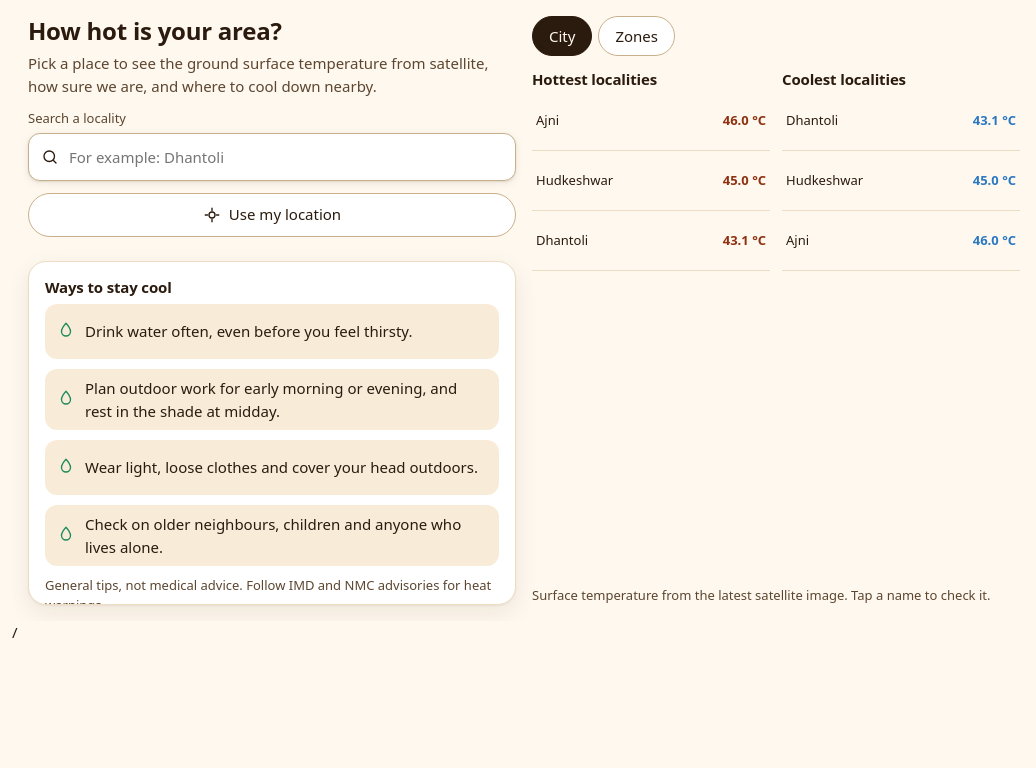
Scenario: HomePage › puts the chosen place in the URL after searching
Type "ajni" into the dropdown.
click(285, 156); type("ajni")  # box [67, 134, 503, 178]
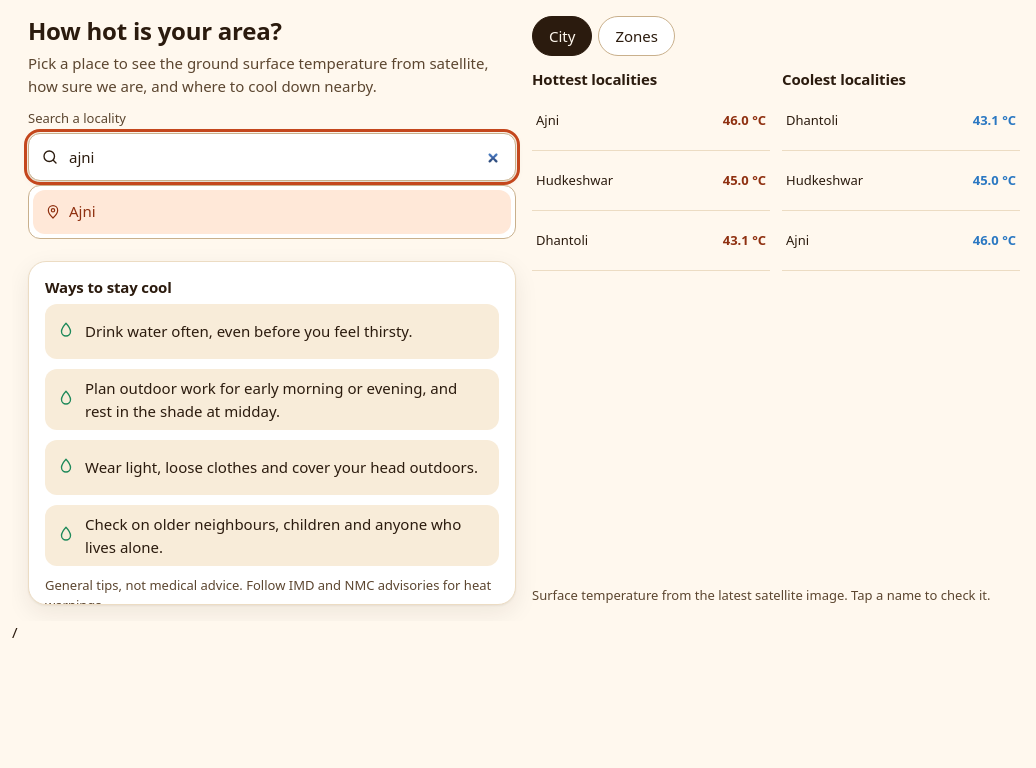
Click the option "Ajni".
click(53, 212)  # box [33, 190, 511, 234]
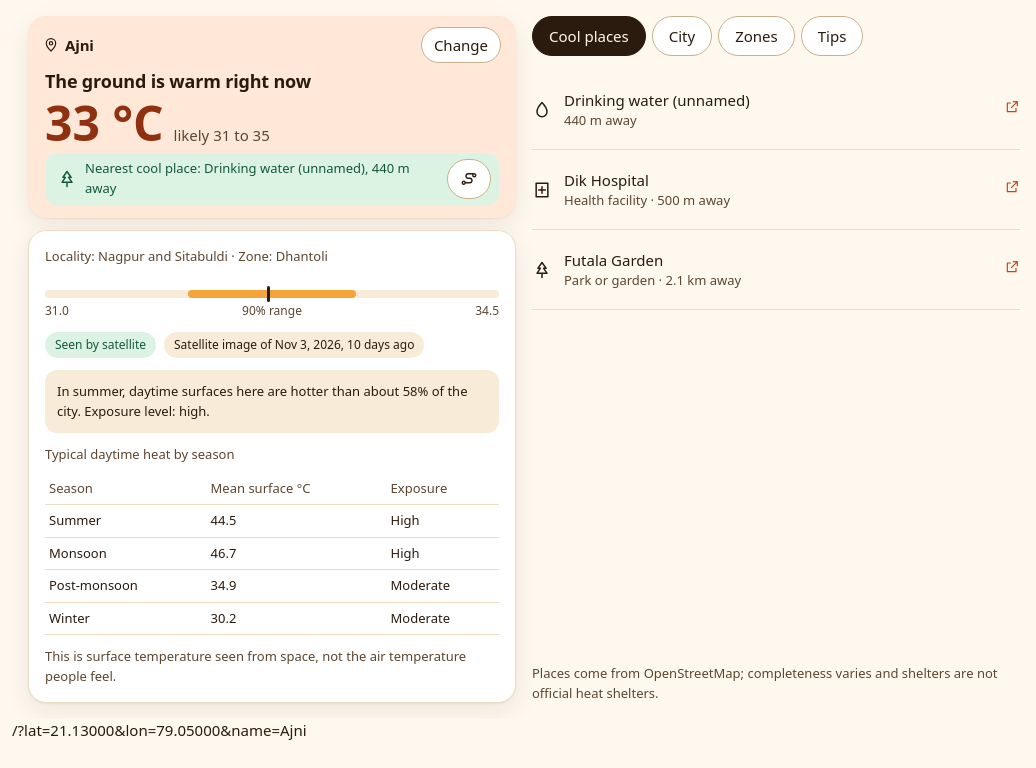
Result: the text "33 °C" is shown at [45, 99, 164, 147]
Result: the text with test id "location" reads "/?lat=21.13000&lon=79.05000&name=Ajni" at [12, 720, 307, 740]
